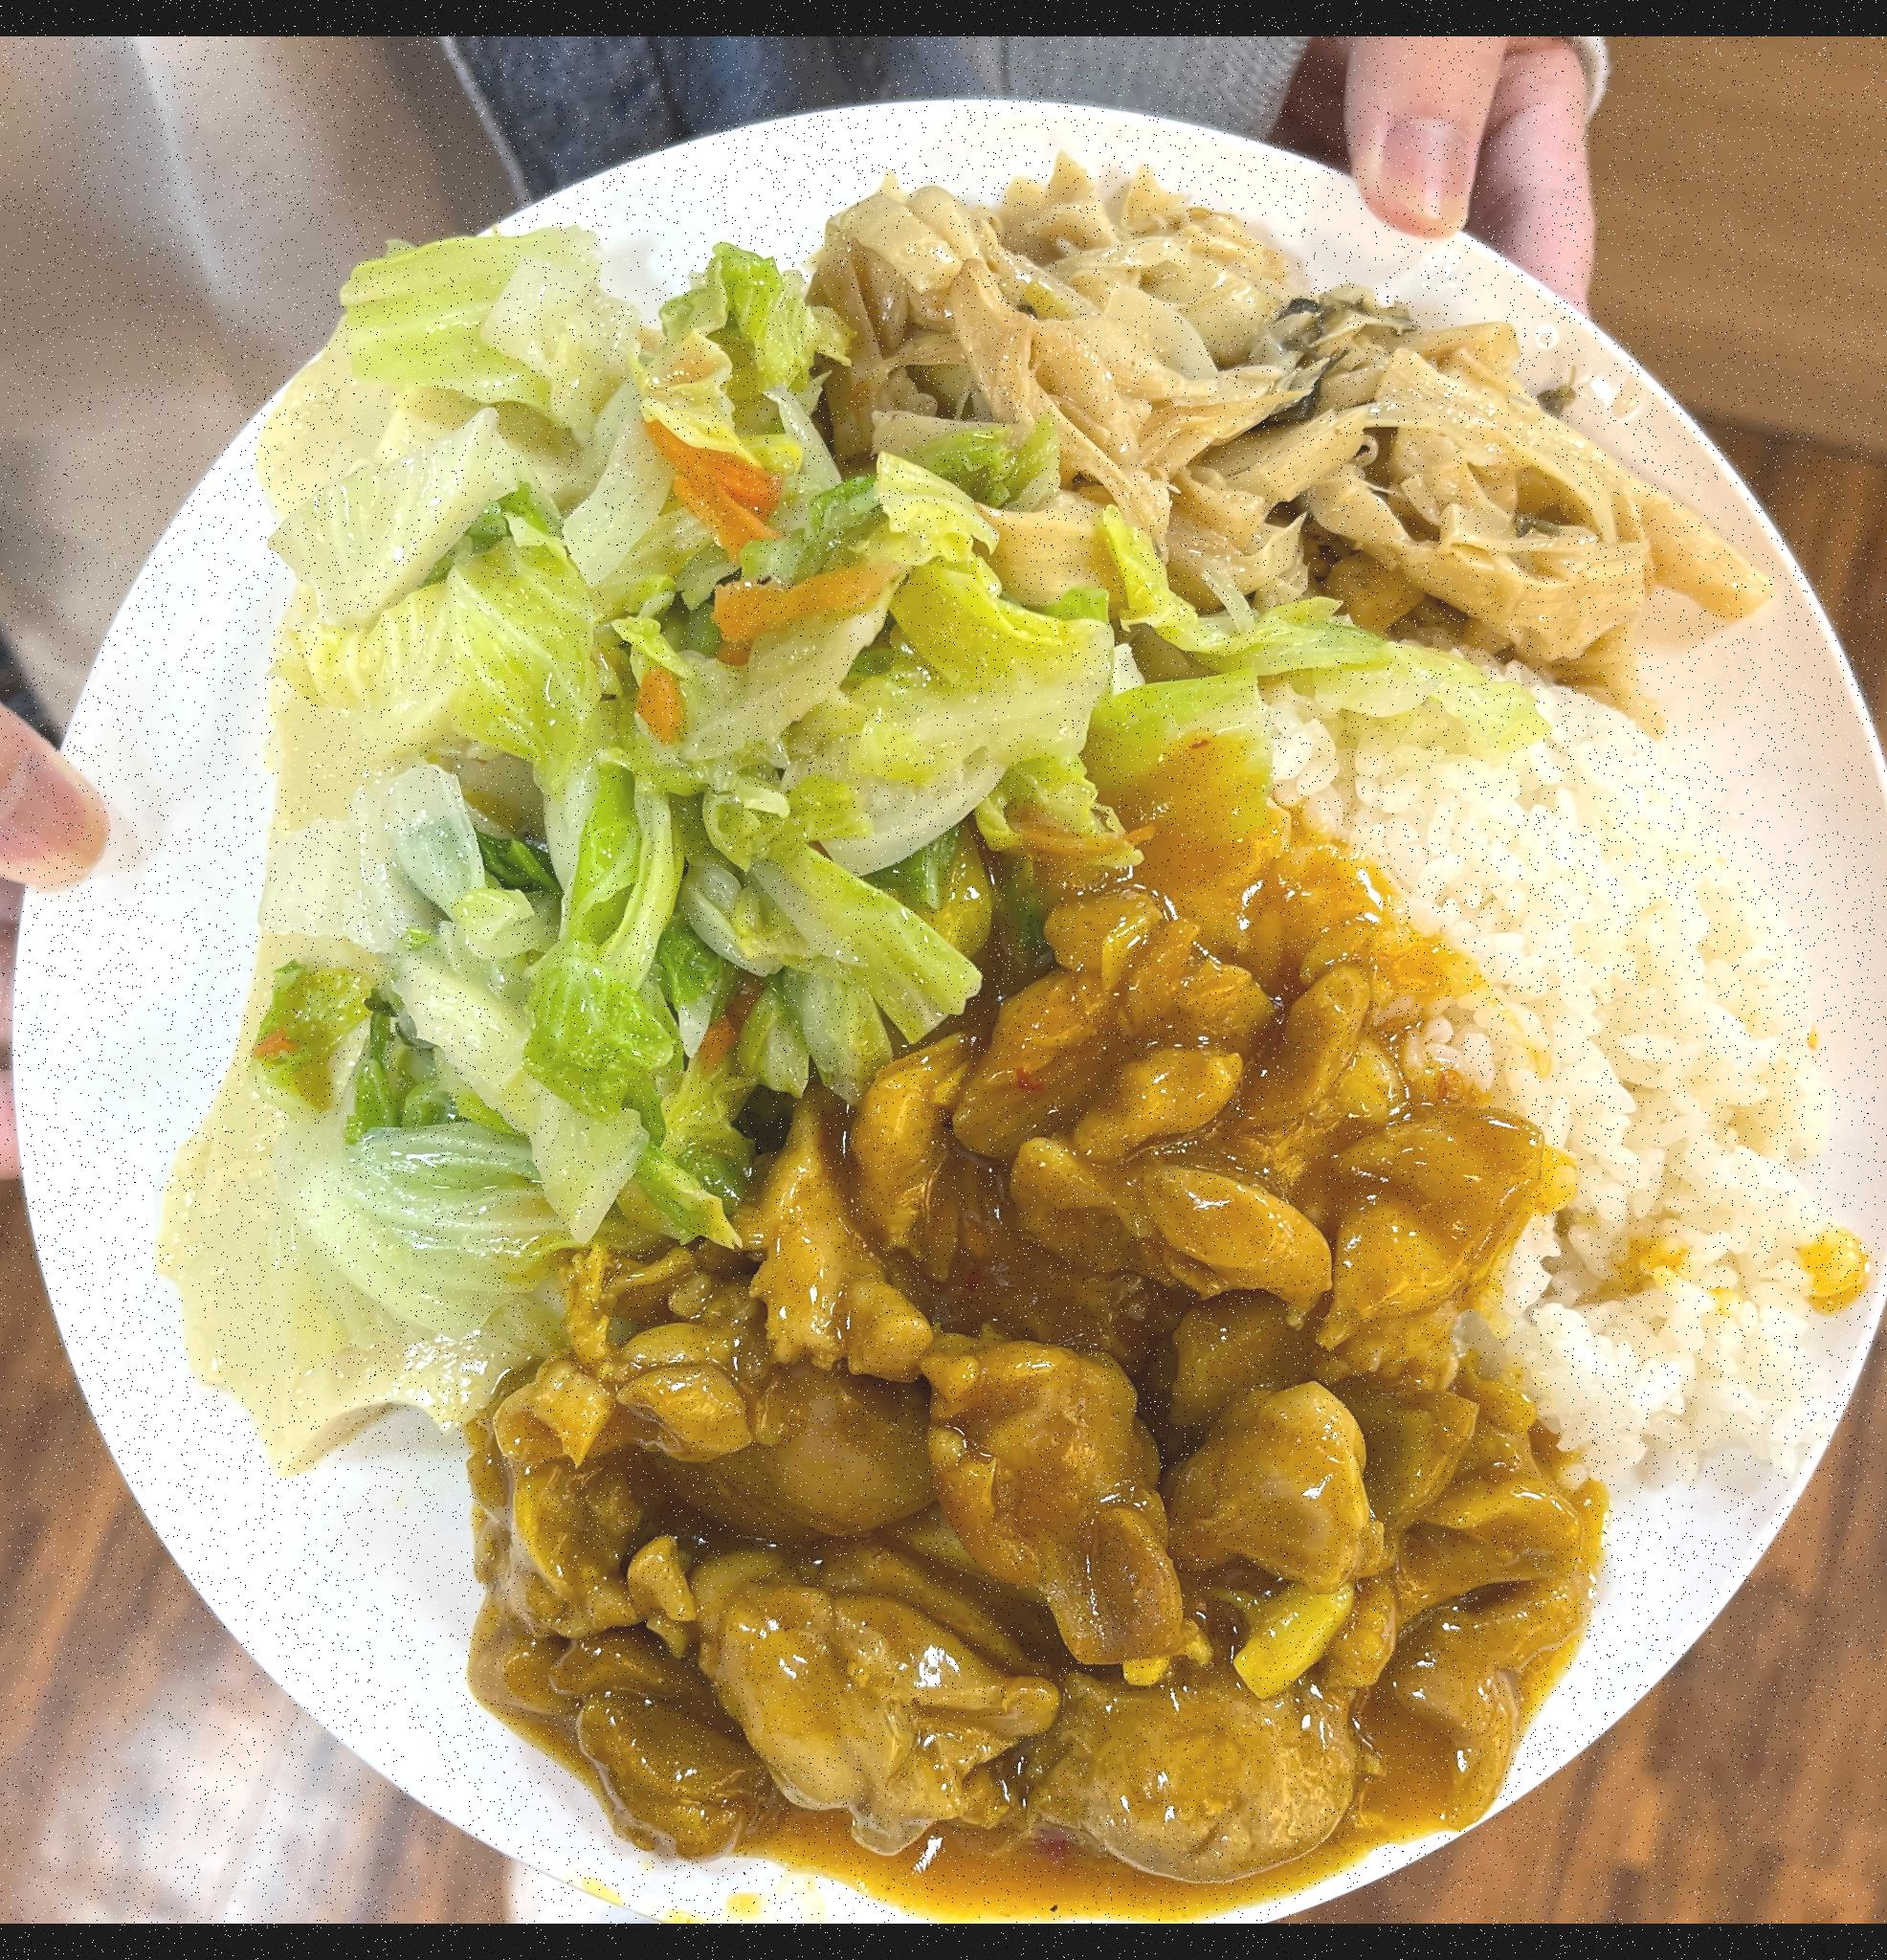curry chicken: (499, 772, 1591, 1897)
plate: (0, 72, 1887, 1902)
side dish: (163, 287, 1071, 1295), (807, 143, 1715, 705)
white rice: (1197, 667, 1878, 1503)
